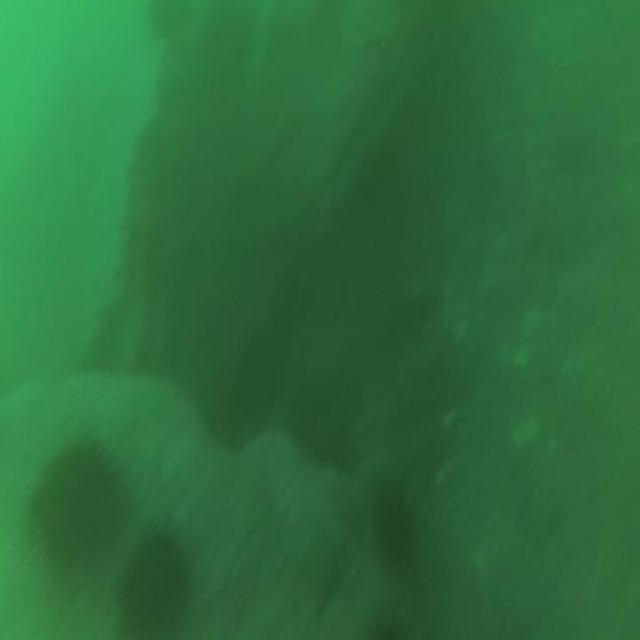echinus: (36, 449, 122, 577), (122, 532, 190, 640), (292, 380, 350, 470), (369, 480, 408, 564)
